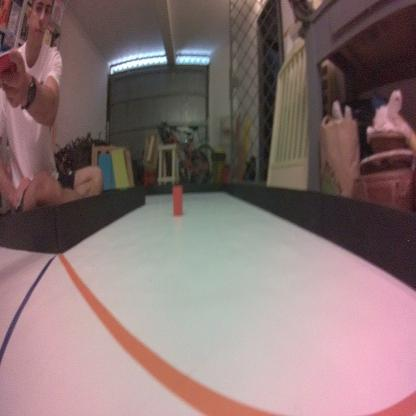red: (171, 181, 183, 215)
